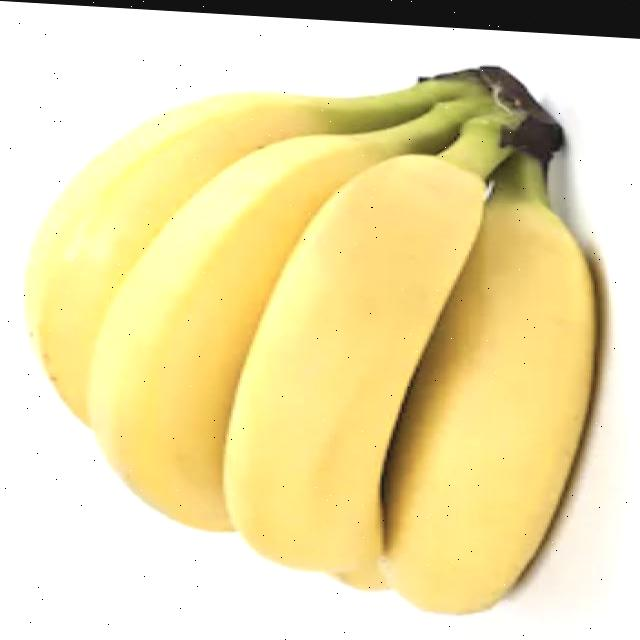banana: (18, 48, 590, 622)
